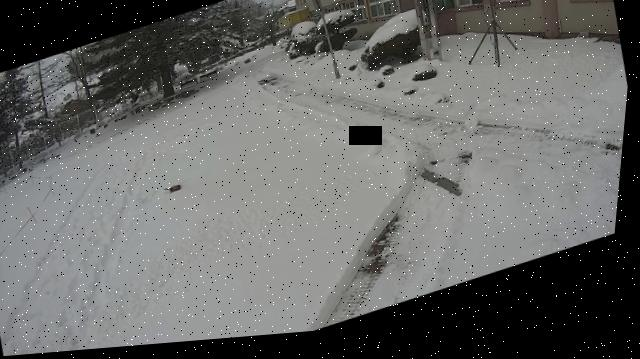fire: (176, 189, 181, 193)
